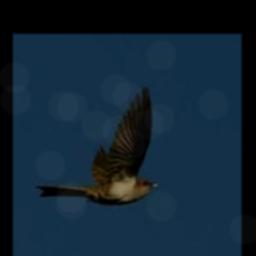Cuckoo: (35, 86, 158, 204)
